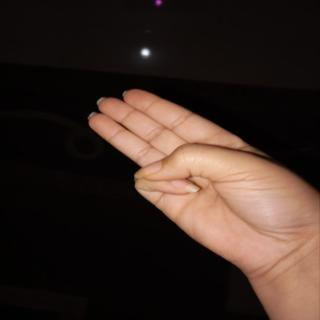THA: (85, 82, 320, 277)
